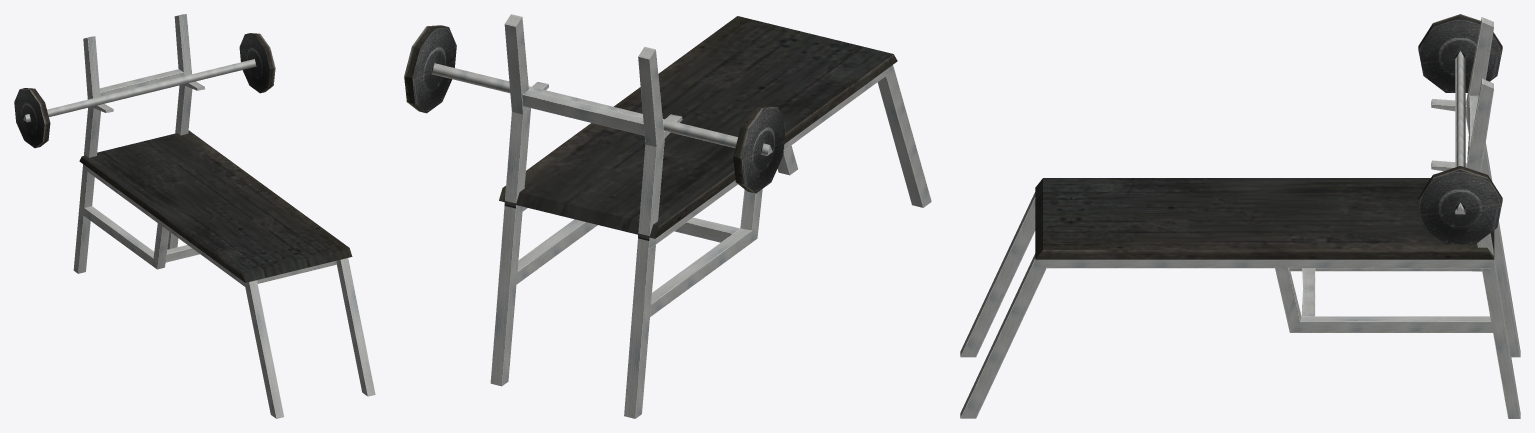
The model's file is M_Home_Garden_Machine3.fbx.
The picture shows the model from 3 angles, left to right: view 1: azimuth 30°, elevation 25°; view 2: azimuth 150°, elevation 25°; view 3: azimuth 270°, elevation 25°; orthographic projection. The views are drawn at different scales.
Parts seen in each view (by area): view 1: M_Home_Garden_Machine3; view 2: M_Home_Garden_Machine3; view 3: M_Home_Garden_Machine3.
Part boxes in pixels (<box>): M_Home_Garden_Machine3: <box>14,14,375,418</box>; M_Home_Garden_Machine3: <box>404,14,931,418</box>; M_Home_Garden_Machine3: <box>960,14,1520,418</box>.
Bounding box in the file's own units: 111 × 108 × 163.
